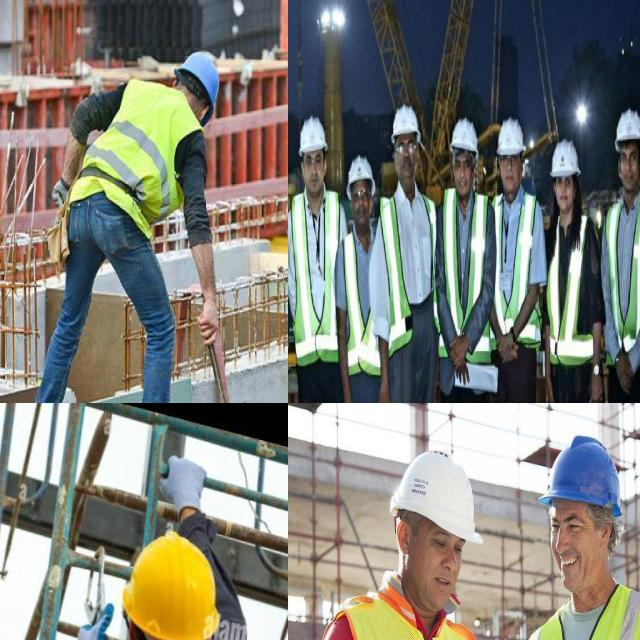No_Ear-Protection: (393, 513, 412, 564)
face_nomask: (411, 519, 468, 617), (543, 498, 603, 588), (395, 132, 419, 191), (615, 145, 640, 197), (499, 148, 521, 200), (352, 180, 372, 228), (304, 154, 326, 194), (455, 154, 473, 196), (554, 173, 576, 206)
hand_glove: (49, 175, 72, 210)
hand_noglove: (197, 292, 227, 348), (615, 346, 636, 398), (449, 352, 472, 382), (499, 335, 518, 370), (451, 336, 465, 371), (591, 372, 604, 403), (545, 375, 558, 403), (375, 384, 391, 403)
head_helmet: (392, 444, 487, 548), (540, 430, 628, 512), (175, 48, 222, 122), (497, 123, 525, 159), (550, 140, 578, 176), (391, 105, 420, 139), (348, 153, 374, 190), (298, 119, 324, 155), (448, 119, 478, 150), (615, 110, 640, 146)
person: (36, 47, 245, 403), (339, 438, 490, 640), (528, 439, 640, 640), (432, 115, 491, 403), (379, 105, 436, 403), (487, 120, 546, 403), (540, 135, 596, 403), (291, 116, 340, 403), (601, 112, 640, 403), (338, 153, 382, 403)
vest: (66, 76, 192, 230), (544, 210, 594, 360), (293, 194, 338, 356), (385, 194, 436, 336), (440, 191, 490, 334), (494, 198, 537, 328), (606, 193, 640, 356), (346, 229, 382, 375)
